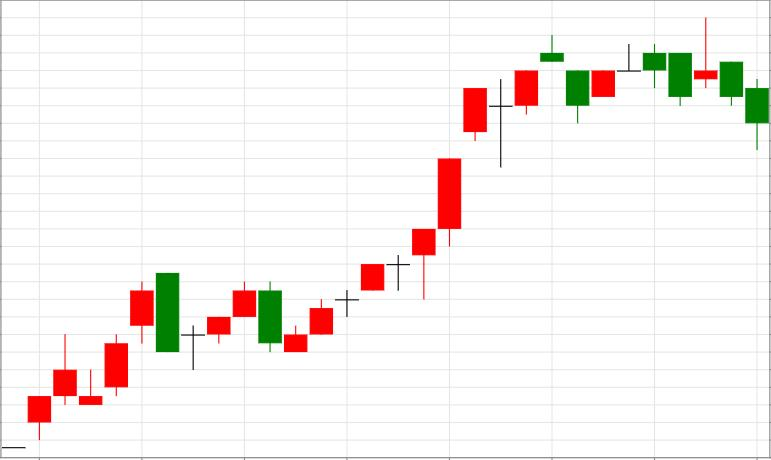bearish_engulfing_fall: (27, 273, 179, 441)
evening_star_fall: (413, 36, 589, 301)
hanging_man_fall: (284, 229, 436, 353)
